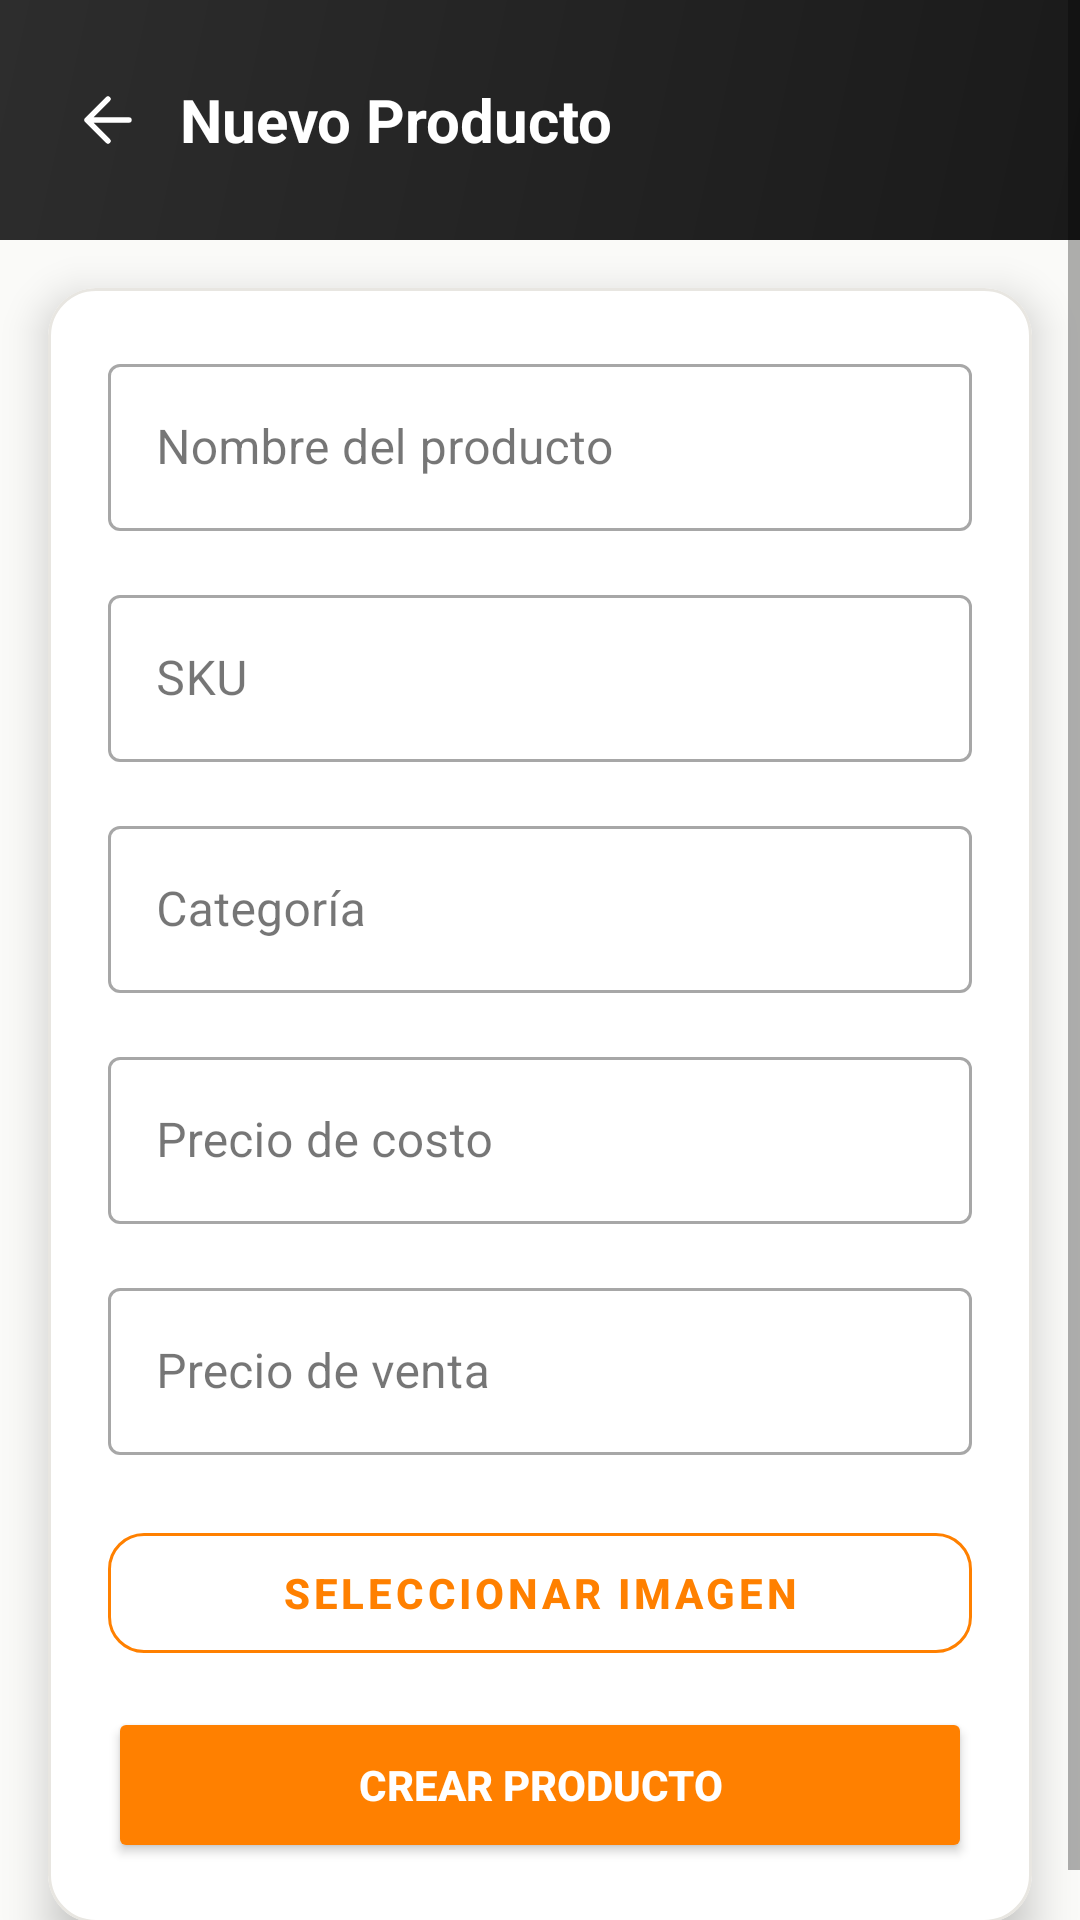

Screen size 1080×1920. Icon name, then its center in pixels as [x,y]:
Volver: [108,120]
